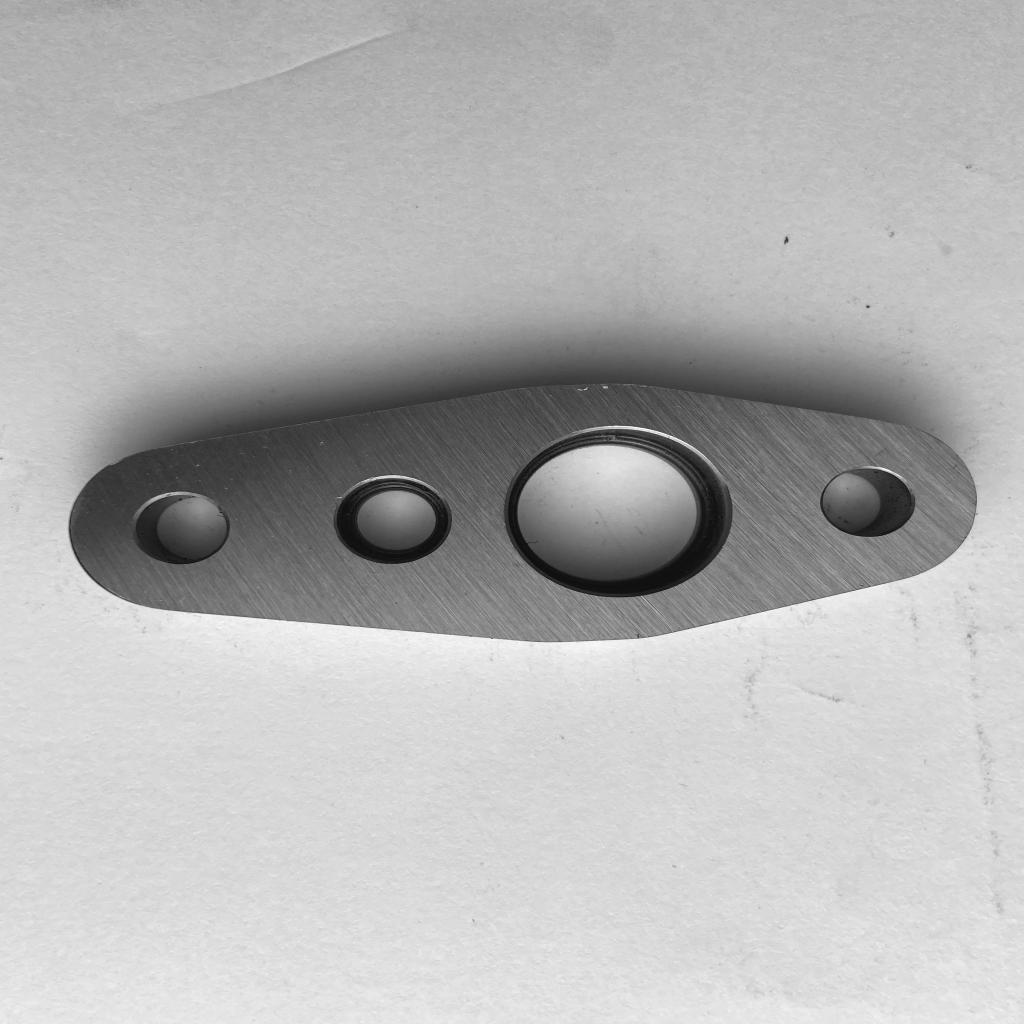chap: (574, 383, 614, 393), (330, 494, 346, 501)
